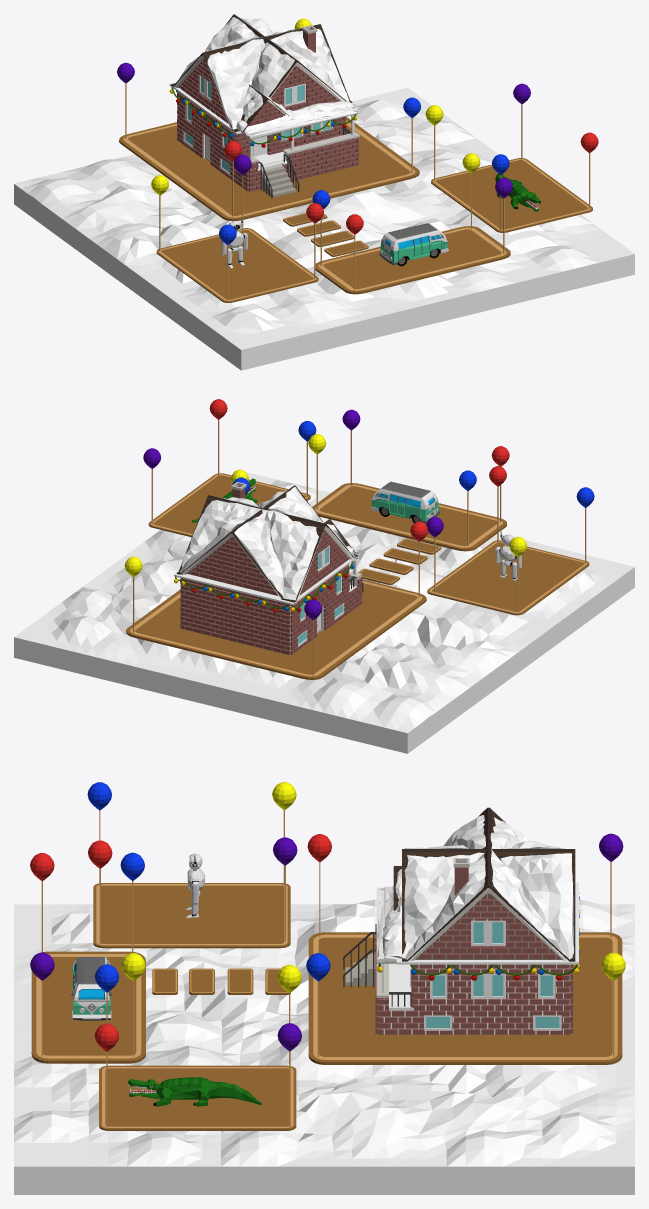
The picture shows the model from 3 angles, top to bottom: view 1: azimuth 30°, elevation 25°; view 2: azimuth 150°, elevation 25°; view 3: azimuth 270°, elevation 25°; orthographic projection. The views are drawn at different scales.
Visible parts, largest first — view 1: Cube.013, Cube.1419, VEHICLES_VAN, ANIMAL_COCODRILO, OBJRANDOM_PLATZEEBOT; view 2: Cube.013, Cube.1419, VEHICLES_VAN, OBJRANDOM_PLATZEEBOT; view 3: Cube.013, Cube.1419, ANIMAL_COCODRILO, VEHICLES_VAN, OBJRANDOM_PLATZEEBOT.
Part boxes in pixels (x1,y1,x2,y2): Cube.013: (14, 18, 634, 370); Cube.1419: (169, 14, 360, 198); VEHICLES_VAN: (379, 223, 448, 266); ANIMAL_COCODRILO: (495, 173, 540, 211); OBJRANDOM_PLATZEEBOT: (221, 216, 247, 268); Cube.013: (14, 399, 634, 753); Cube.1419: (174, 482, 363, 654); VEHICLES_VAN: (370, 481, 439, 523); OBJRANDOM_PLATZEEBOT: (495, 530, 521, 580); Cube.013: (14, 782, 634, 1194); Cube.1419: (343, 807, 579, 1034); ANIMAL_COCODRILO: (128, 1077, 261, 1106); VEHICLES_VAN: (71, 957, 111, 1020); OBJRANDOM_PLATZEEBOT: (186, 853, 204, 918).
Size of the model in its own units: 4000 by 1638 by 4000.
Materials: 41 (2 with a texture image).
